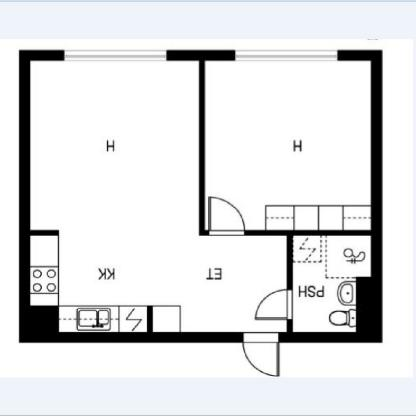door: (28, 61, 286, 332), (205, 61, 373, 230), (292, 234, 373, 336), (243, 331, 285, 377), (206, 194, 246, 240), (250, 286, 297, 320)
window: (65, 49, 166, 61), (233, 51, 338, 62)
